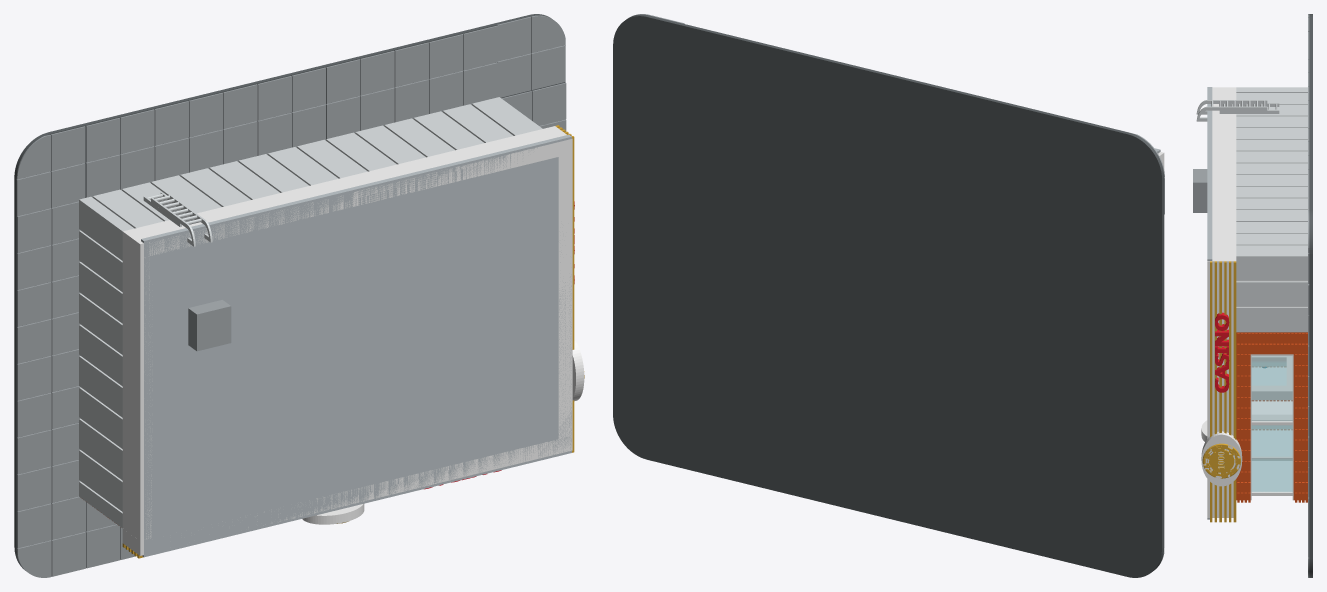
The model's file is tinker.obj.
3 renders of one model, left to right at view 1: azimuth 30°, elevation 25°; view 2: azimuth 150°, elevation 25°; view 3: azimuth 270°, elevation 25°, orthographic. The views are drawn at different scales.
Parts seen in each view (by area): view 1: obj_0, obj_175, obj_174, obj_20, obj_19, obj_7, obj_22, obj_24, obj_23, obj_21, obj_10, obj_8 (+35 smaller); view 2: obj_34, obj_31, obj_30, obj_38, obj_21, obj_29, obj_20, obj_19, obj_24, obj_7, obj_22, obj_32 (+13 smaller); view 3: obj_180, obj_175, obj_6, obj_41, obj_177, obj_179, obj_126, obj_70, obj_71, obj_72, obj_111, obj_194 (+35 smaller).
Boxes of the visible parts, x1,y1,x2,y2 form: obj_0: (141,134,571,557); obj_175: (122,126,572,258); obj_174: (122,246,152,541); obj_20: (83,107,154,197); obj_19: (152,90,223,180); obj_7: (14,124,85,216); obj_22: (289,57,360,147); obj_24: (426,23,497,113); obj_23: (358,40,428,130); obj_21: (221,73,291,164); obj_10: (14,496,85,577); obj_8: (495,14,565,97); obj_34: (681,90,1098,495); obj_31: (1093,347,1164,437); obj_30: (1093,273,1164,363); obj_38: (1093,421,1164,511); obj_21: (887,74,957,165); obj_29: (1093,200,1164,289); obj_20: (1024,107,1094,199); obj_19: (956,91,1026,182); obj_24: (681,24,751,115); obj_7: (1093,124,1164,216); obj_22: (819,57,889,149); obj_32: (1024,478,1093,568); obj_180: (1252,356,1292,491); obj_175: (1207,87,1236,273); obj_6: (1210,261,1236,522); obj_41: (1236,332,1307,500); obj_177: (1207,273,1233,505); obj_179: (1252,425,1292,491); obj_126: (1295,333,1307,502); obj_70: (1236,281,1307,306); obj_71: (1236,307,1307,332); obj_72: (1236,255,1307,280); obj_111: (1250,354,1293,500); obj_194: (1201,431,1242,486).
Size of the model in its own units: 109 by 84 by 25.
